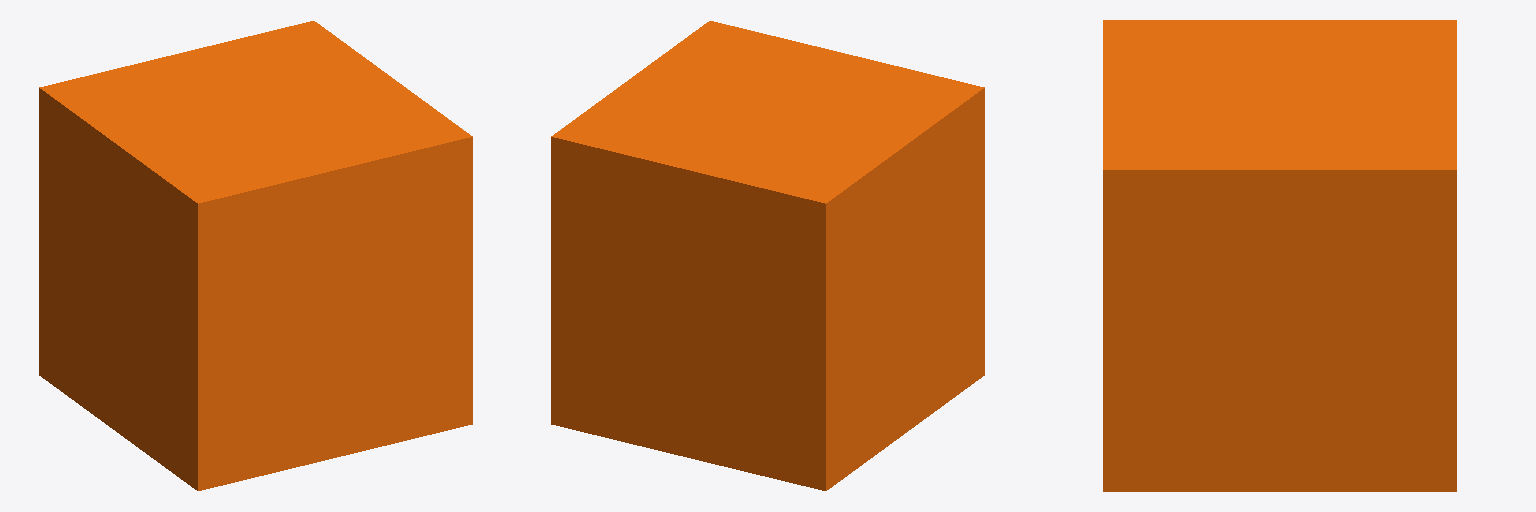
robot.urdf — sensor_box:
<?xml version="1.0"?>
<!-- GUI スポーンボタンの動作確認用サンプル。
     1 kg の箱に接触センサと GNSS を載せただけの最小構成。
     スポーン後に再生すると
       /sensor_box/base_link/contact        (std_msgs/Bool, 着地で true)
       /sensor_box/base_link/contact/wrench (geometry_msgs/WrenchStamped, 約 9.8 N)
       /sensor_box/base_link/fix            (sensor_msgs/NavSatFix, 東京駅付近)
     が流れる。 -->
<robot name="sensor_box">
  <link name="base_link">
    <inertial>
      <mass value="1.0"/>
      <inertia ixx="0.01" ixy="0" ixz="0" iyy="0.01" iyz="0" izz="0.01"/>
    </inertial>
    <visual>
      <geometry><box size="0.2 0.2 0.2"/></geometry>
      <material name="orange"><color rgba="1.0 0.5 0.1 1.0"/></material>
    </visual>
    <collision>
      <geometry><box size="0.2 0.2 0.2"/></geometry>
    </collision>
  </link>
  <simulation>
    <sensor type="contact" name="base_link">
      <update_rate>20</update_rate>
    </sensor>
    <sensor type="gnss" name="base_link">
      <update_rate>10</update_rate>
      <origin_latitude>35.681236</origin_latitude>
      <origin_longitude>139.767125</origin_longitude>
      <origin_altitude>0.0</origin_altitude>
    </sensor>
  </simulation>
</robot>

--- Facts derived from the render (not from the file) ---
The picture shows the robot from 3 angles, left to right: view 1: azimuth 30°, elevation 25°; view 2: azimuth 150°, elevation 25°; view 3: azimuth 270°, elevation 25°; orthographic projection.
Robot: sensor_box — 1 links, 0 joints (none); root link base_link; default pose: every joint at zero.
Links seen in each view (by area): view 1: base_link; view 2: base_link; view 3: base_link.
Boxes of the visible links, left/top/right/bottom form: base_link: left=39, top=21, right=472, bottom=490; base_link: left=551, top=21, right=984, bottom=490; base_link: left=1103, top=20, right=1456, bottom=491.
Bounding box of the posed robot: 0.2 × 0.2 × 0.2 m (x, y, z).
Geometry: primitives only (box / cylinder / sphere), no mesh files.
